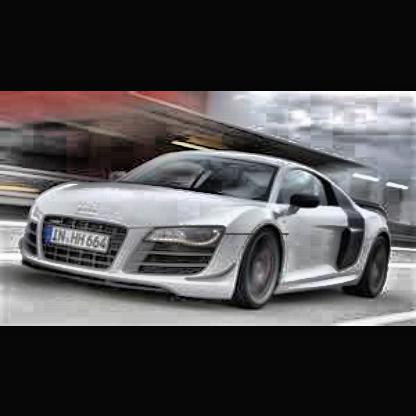Audi R8 Coupe 2012: (22, 142, 395, 312)
